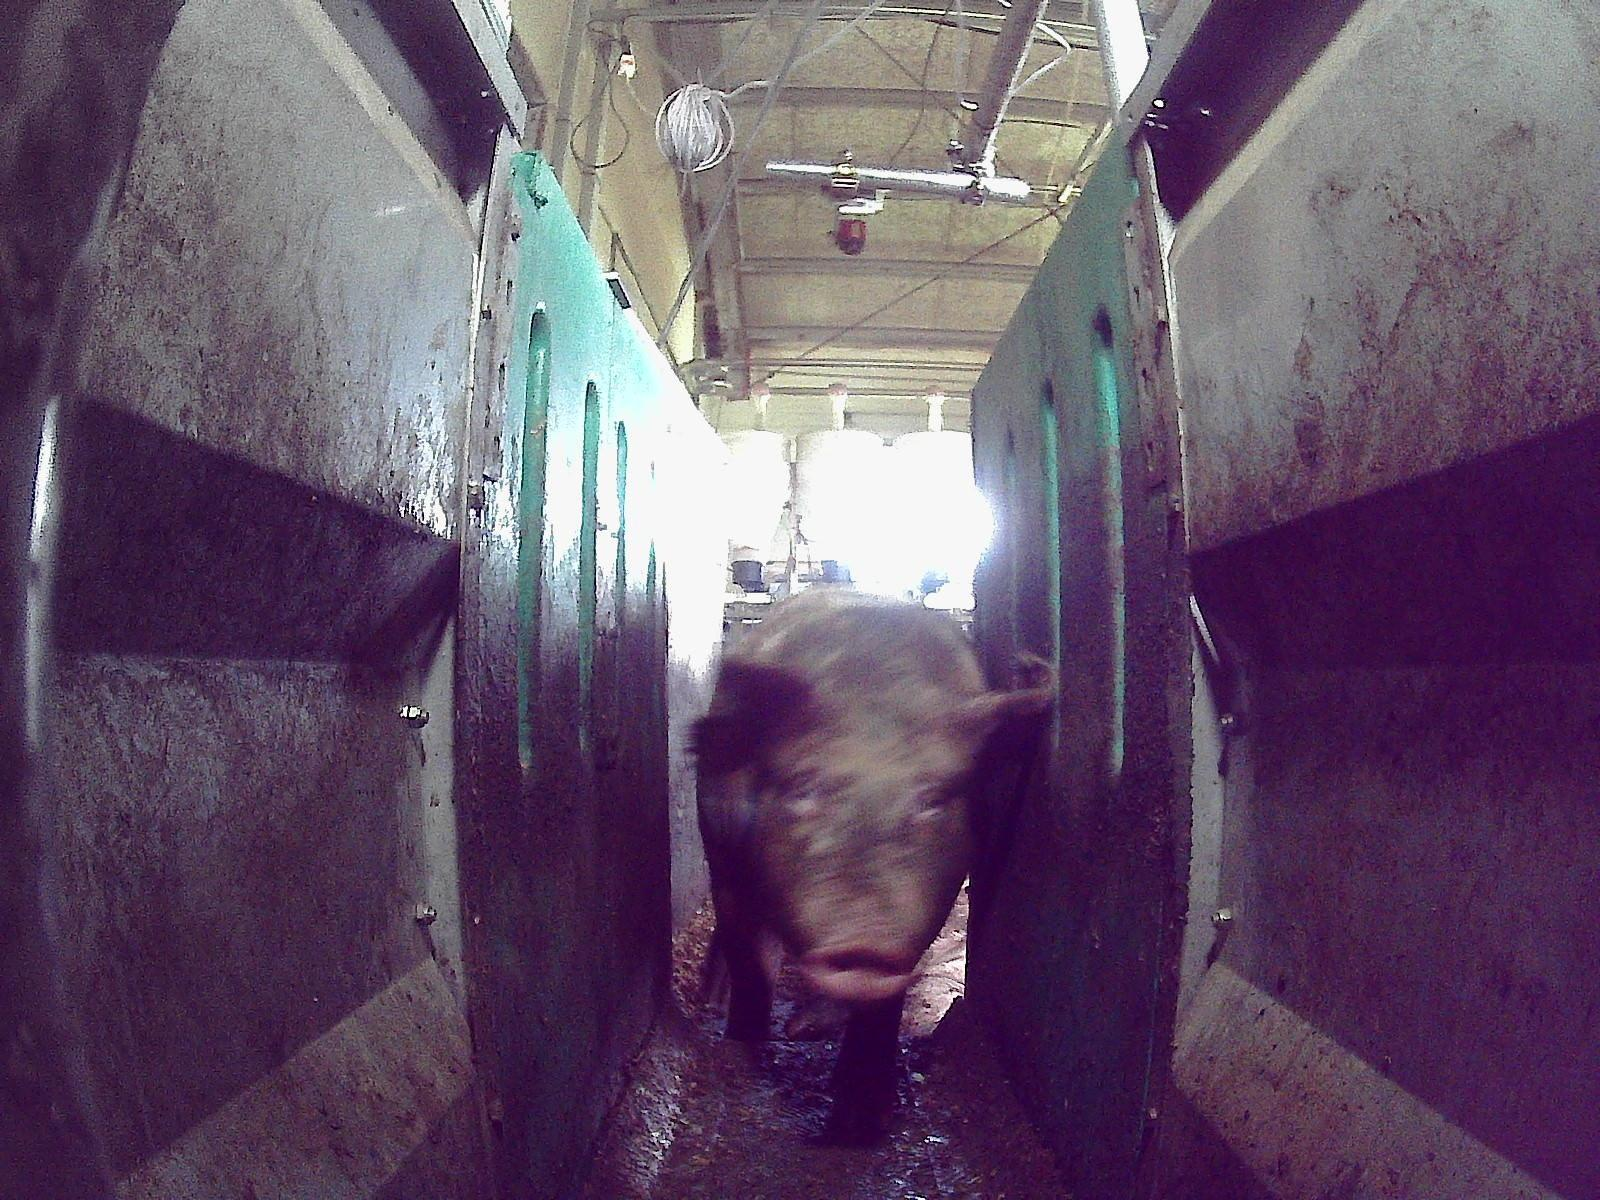Face: (748, 724, 954, 999)
